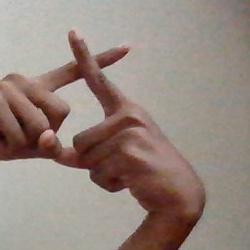X: (0, 2, 248, 250)
